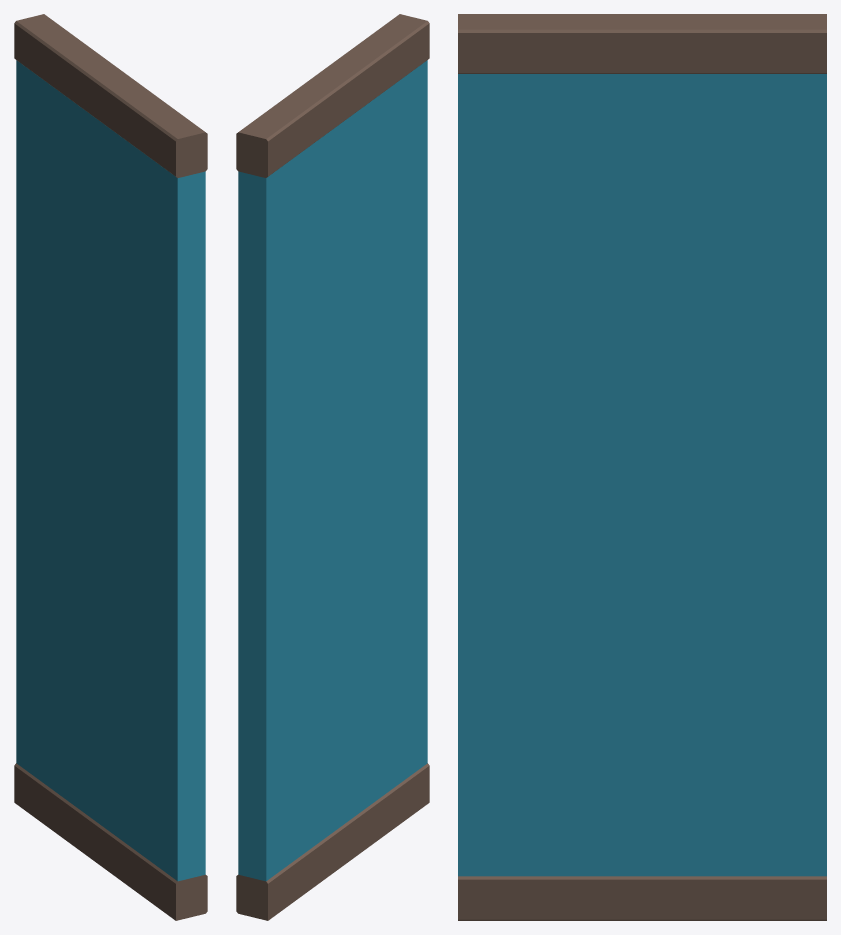
Rendered from SmallWallTile01.fbx.
The picture shows the model from 3 angles, left to right: view 1: azimuth 30°, elevation 25°; view 2: azimuth 150°, elevation 25°; view 3: azimuth 270°, elevation 25°; orthographic projection. The views are drawn at different scales.
Parts seen in each view (by area): view 1: SmallWallTile01; view 2: SmallWallTile01; view 3: SmallWallTile01.
Boxes of the visible parts, x1,y1,x2,y2 form: SmallWallTile01: (14,14,207,920); SmallWallTile01: (236,14,429,920); SmallWallTile01: (458,14,826,920).
Bounding box in the file's own units: 34 × 800 × 300.
